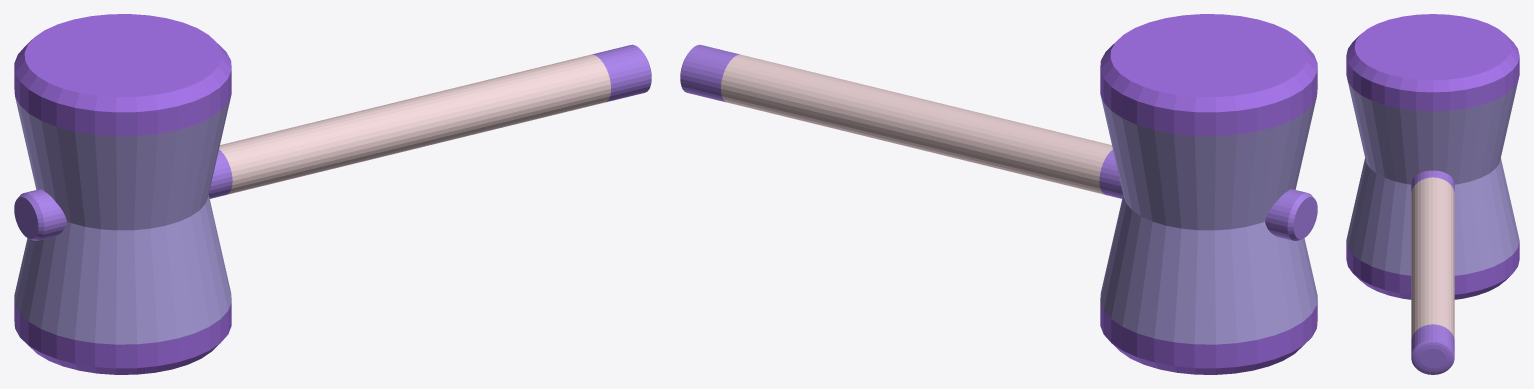
File: hammer_jh.fbx
3 views of the same model, side by side, from view 1: azimuth 30°, elevation 25°; view 2: azimuth 150°, elevation 25°; view 3: azimuth 270°, elevation 25° (orthographic). The views are drawn at different scales.
Parts seen in each view (by area): view 1: Cylinder_head; view 2: Cylinder_head; view 3: Cylinder_head.
Part boxes in pixels (<box>): Cylinder_head: <box>14,14,651,374</box>; Cylinder_head: <box>680,14,1317,374</box>; Cylinder_head: <box>1346,14,1519,374</box>.
Bounding box in the file's own units: 1421 × 614 × 437.
